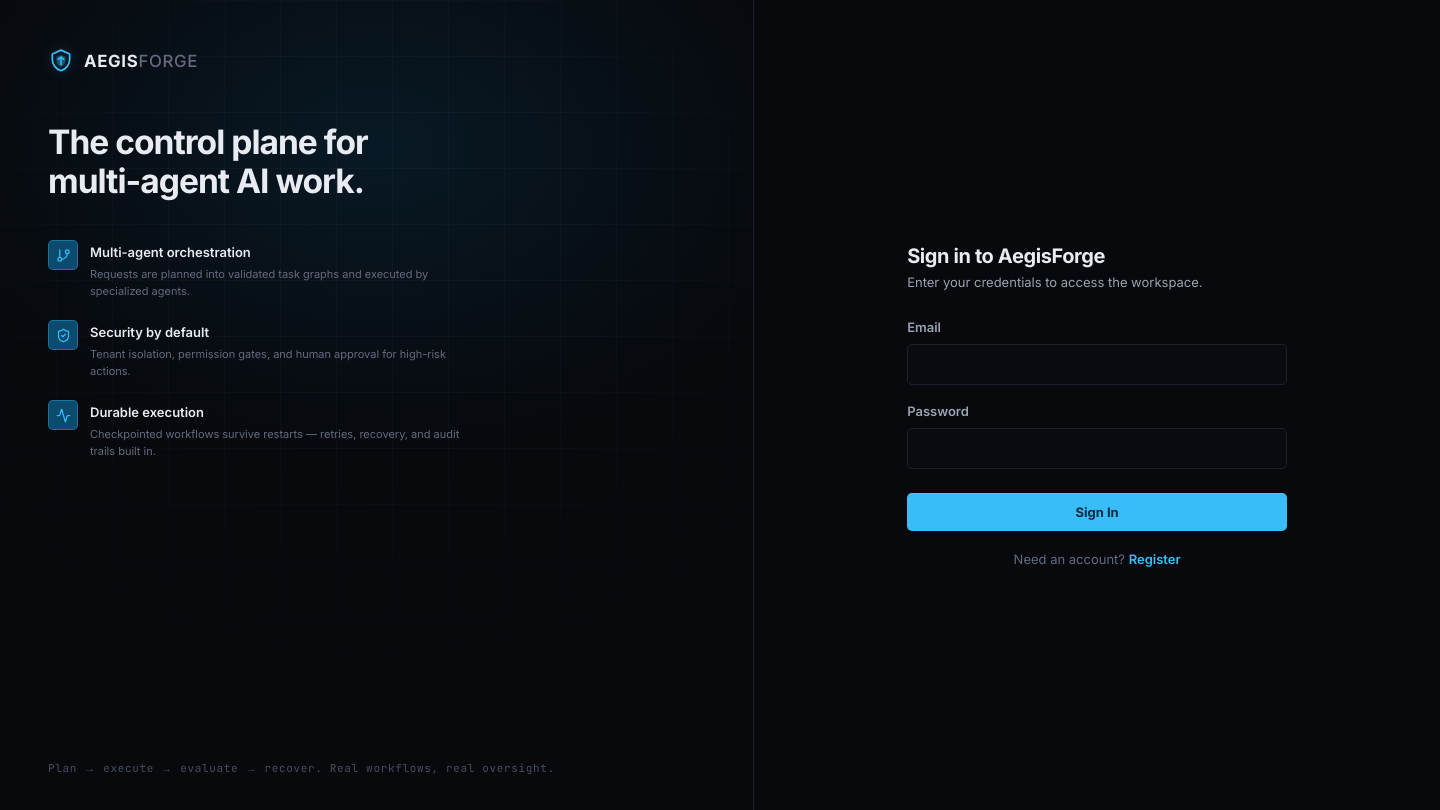
Test: LoginPage › shows an error message on authentication failure
This screenshot has width=1440, height=810.
In the field labelled "Email": (1097, 364) [907,344,1287,385], type "user@corp.com"
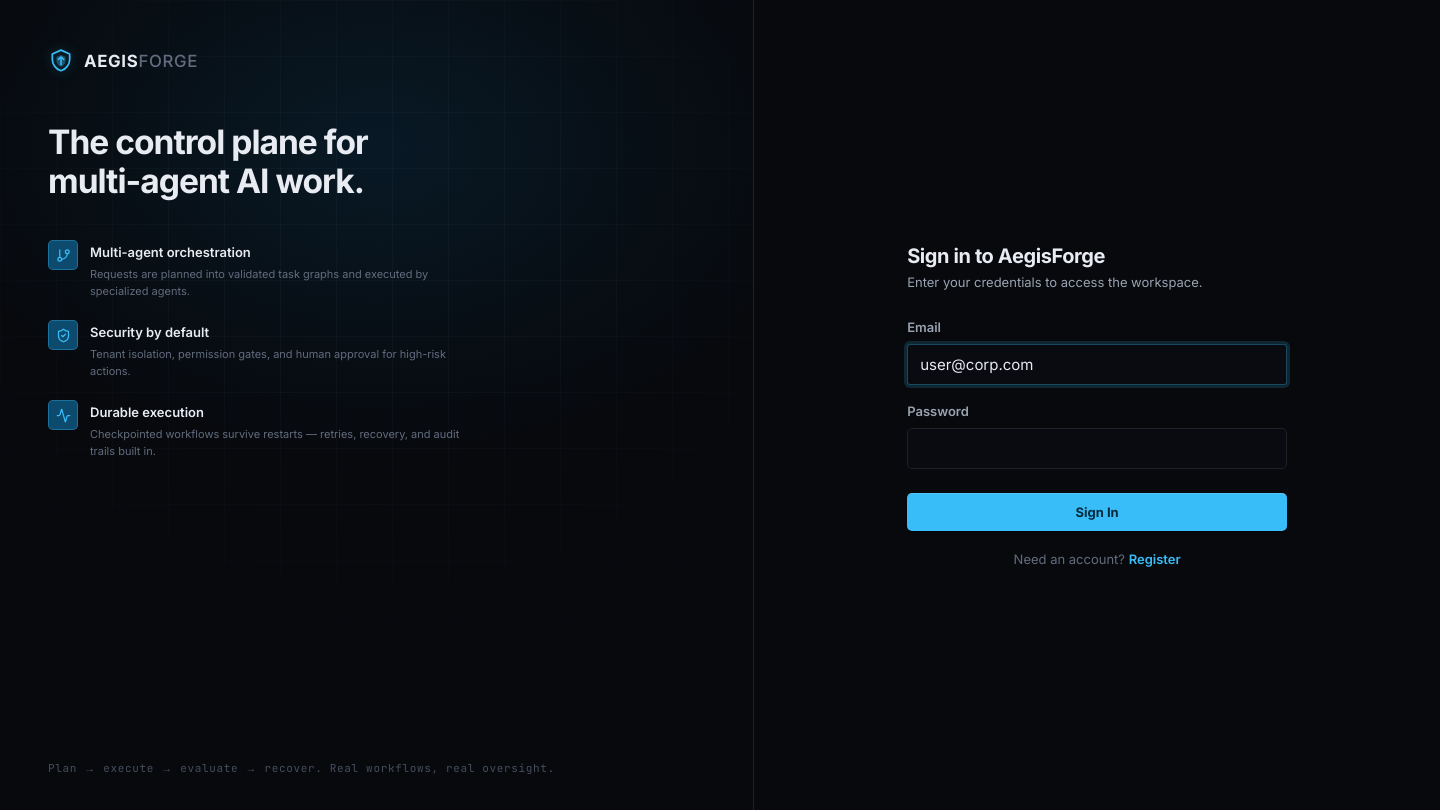
In the password field labelled "Password": (1097, 448) [907,428,1287,469], type "wrong-password"
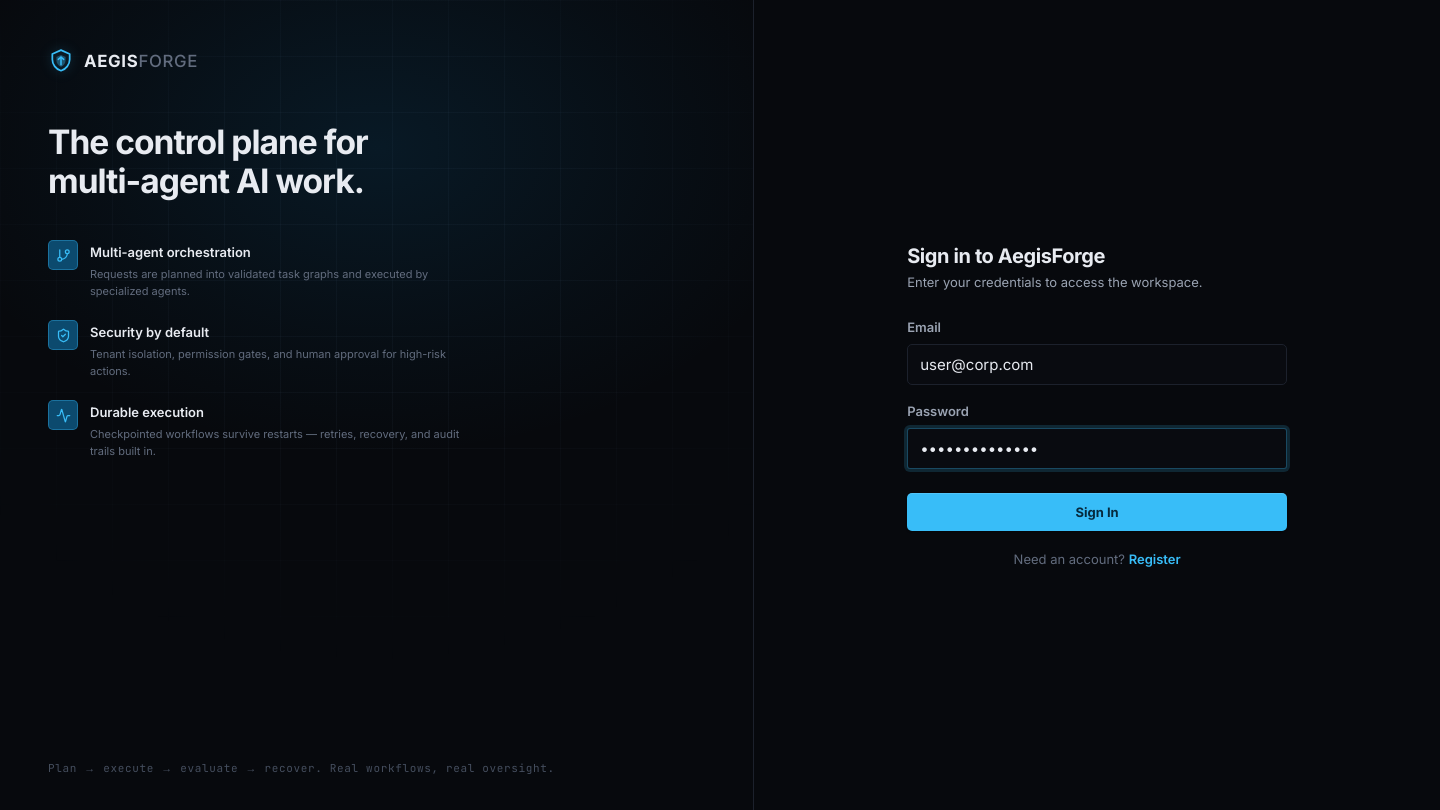
Click the button "Sign In": (1097, 512) [907,493,1287,531]
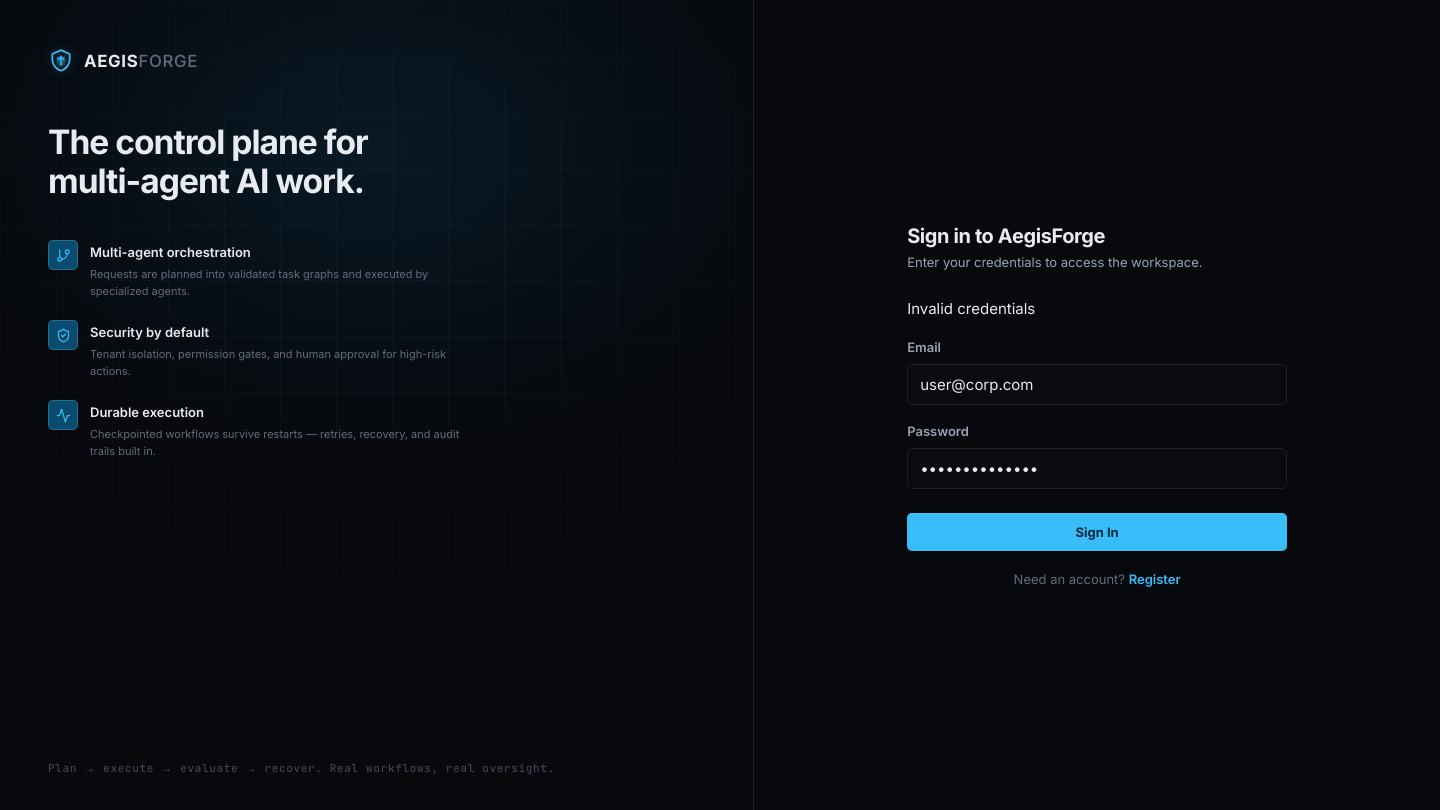
Result: the text "Invalid credentials" is shown at [907,299,1035,318]
